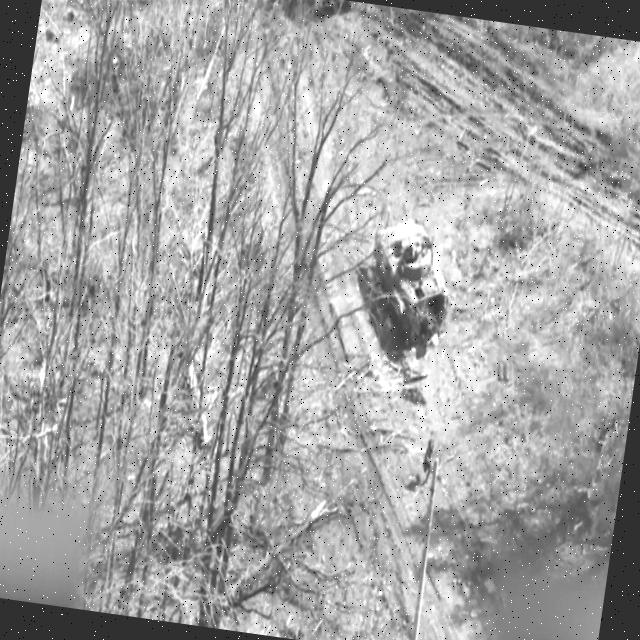AIFV: (362, 201, 462, 339)
